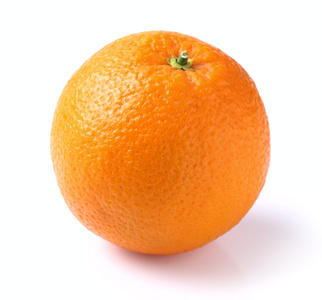orange: (51, 31, 270, 255)
